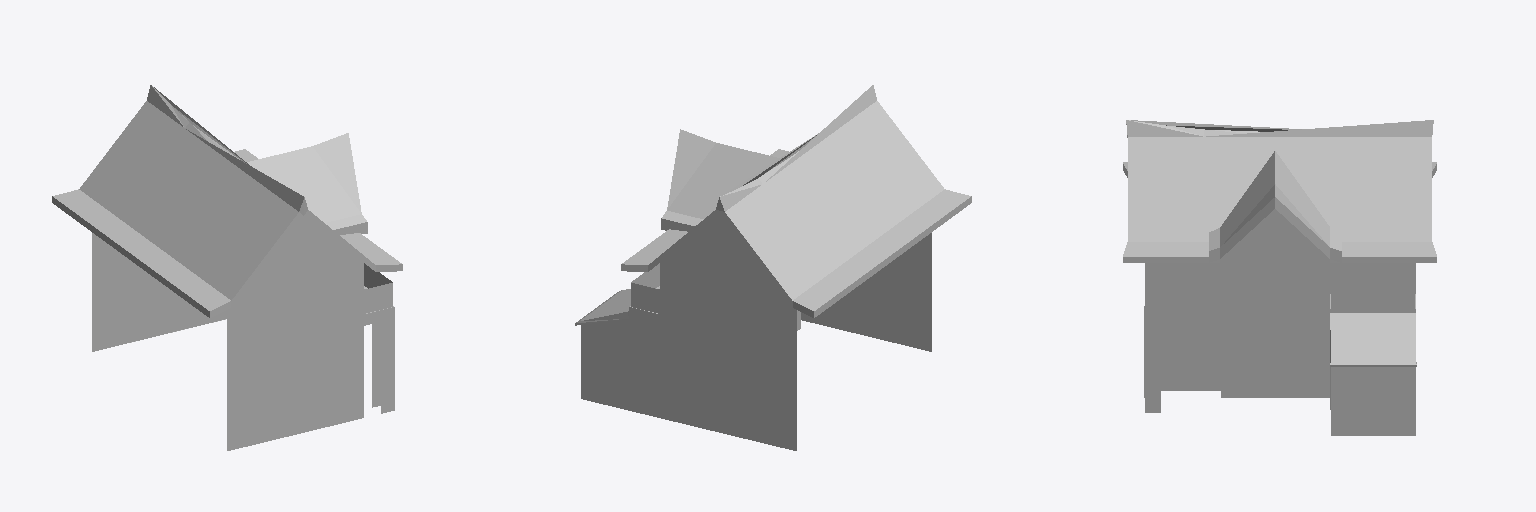
File: littlehouse.obj
The picture shows the model from 3 angles: view 1: azimuth 30°, elevation 25°; view 2: azimuth 150°, elevation 25°; view 3: azimuth 270°, elevation 25°; orthographic projection.
Parts seen in each view (by area): view 1: Cube; view 2: Cube; view 3: Cube.
Part boxes in pixels (x1,y1,x2,y2): Cube: (52, 85, 402, 450); Cube: (575, 85, 971, 450); Cube: (1123, 120, 1436, 435).
Bounding box in the file's own units: 5.68 × 5.31 × 6.2.